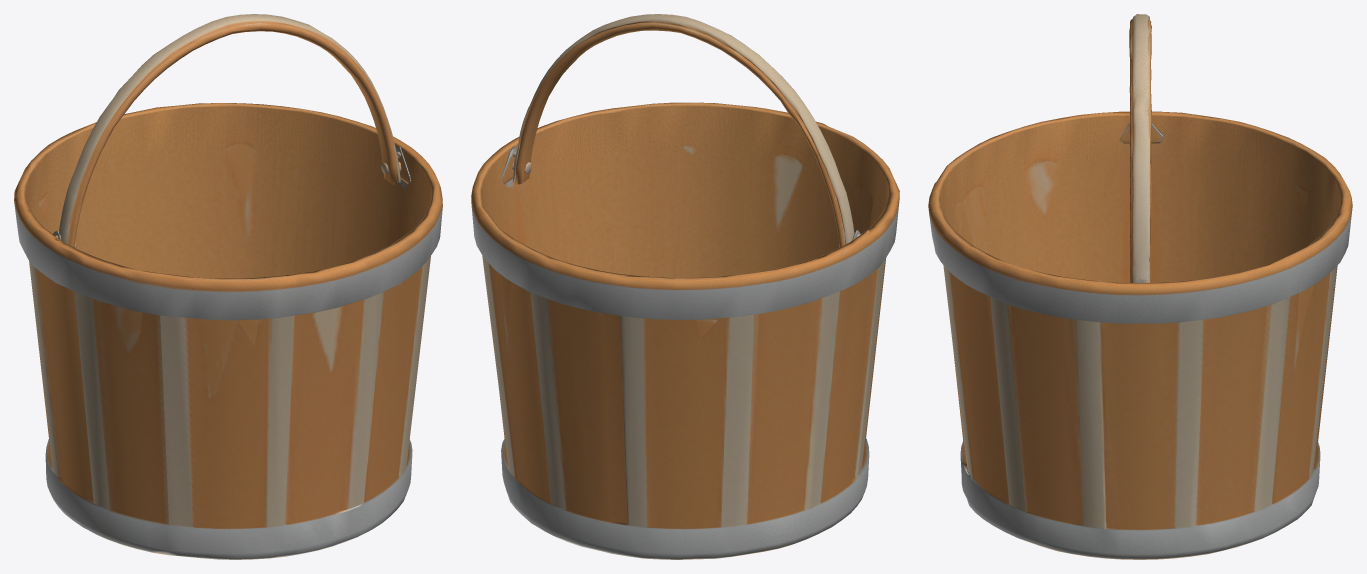
Rendered from water_bucket.glb.
The picture shows the model from 3 angles, left to right: view 1: azimuth 30°, elevation 25°; view 2: azimuth 150°, elevation 25°; view 3: azimuth 270°, elevation 25°; orthographic projection.
Parts seen in each view (by area): view 1: water_bucket; view 2: water_bucket; view 3: water_bucket.
Part boxes in pixels (bbox=[...]): water_bucket: bbox=[14, 14, 442, 559]; water_bucket: bbox=[471, 14, 899, 559]; water_bucket: bbox=[928, 14, 1352, 559].
Bounding box in the file's own units: 0.3159 × 0.38 × 0.319.
Materials: 1 (1 with a texture image).
